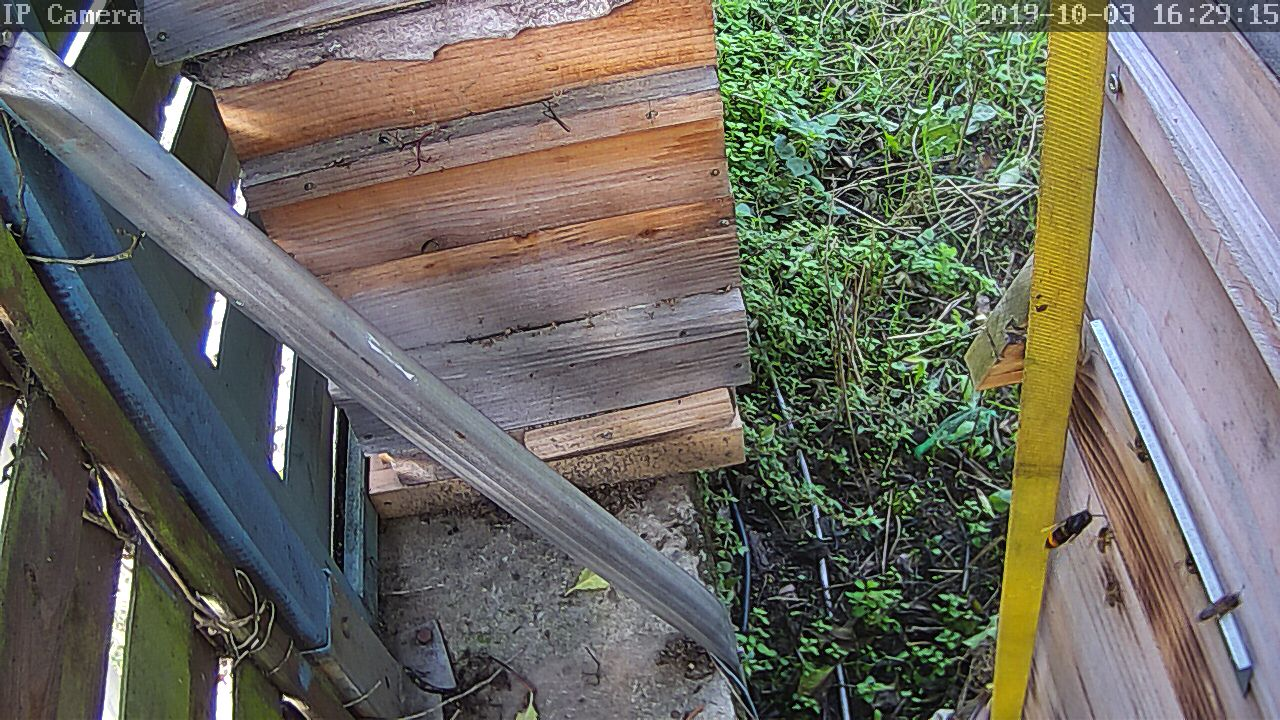bee: (1191, 583, 1246, 633), (1092, 523, 1119, 558), (1099, 573, 1125, 608), (1127, 435, 1149, 467)
hornet: (1042, 507, 1094, 553)
